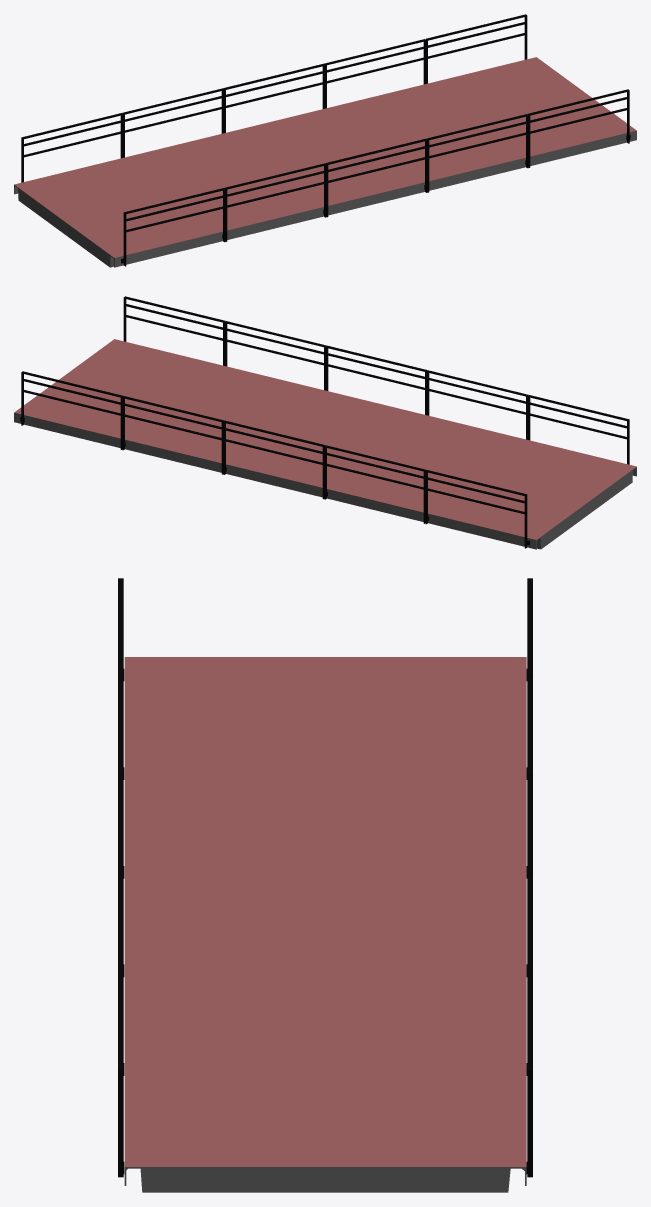
The model's file is SmallTest.gltf.
3 renders of one model, top to bottom at view 1: azimuth 30°, elevation 25°; view 2: azimuth 150°, elevation 25°; view 3: azimuth 270°, elevation 25°, orthographic. The views are drawn at different scales.
Size of the model in its own units: 10 by 1.03 by 3.44.
